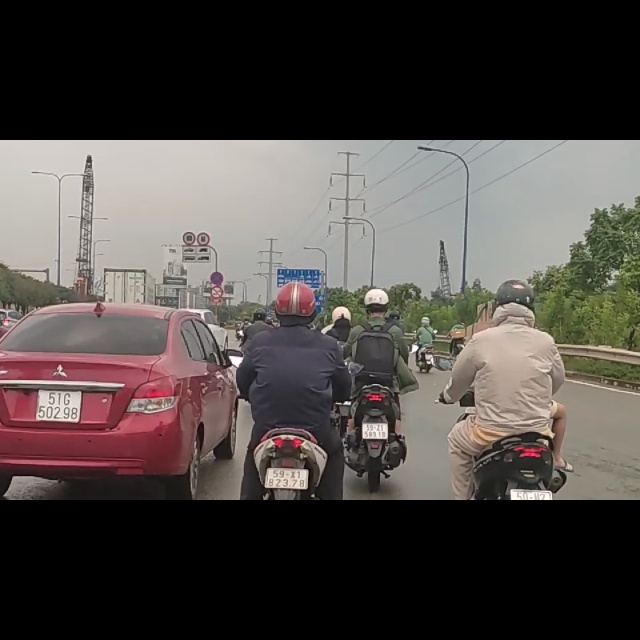bien_chi_dan: (210, 234, 224, 258)
